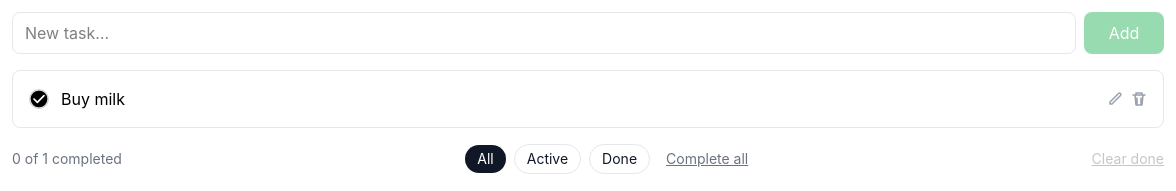
TaskList › shows the generic toast when a single-item delete fails
Click the button named "delete" at x=1139, y=99, box top-left (1131, 91), bottom-right (1147, 107)
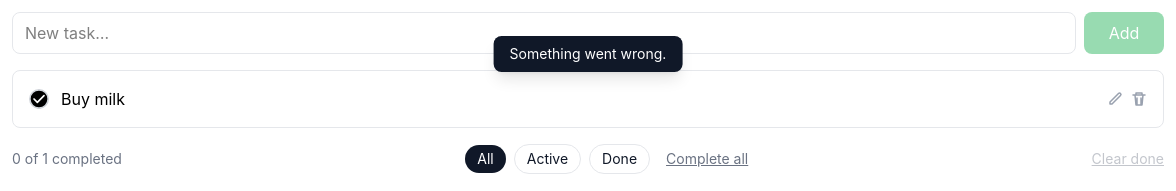
Result: the message reads "Something went wrong." at top-left (510, 45), bottom-right (666, 62)
